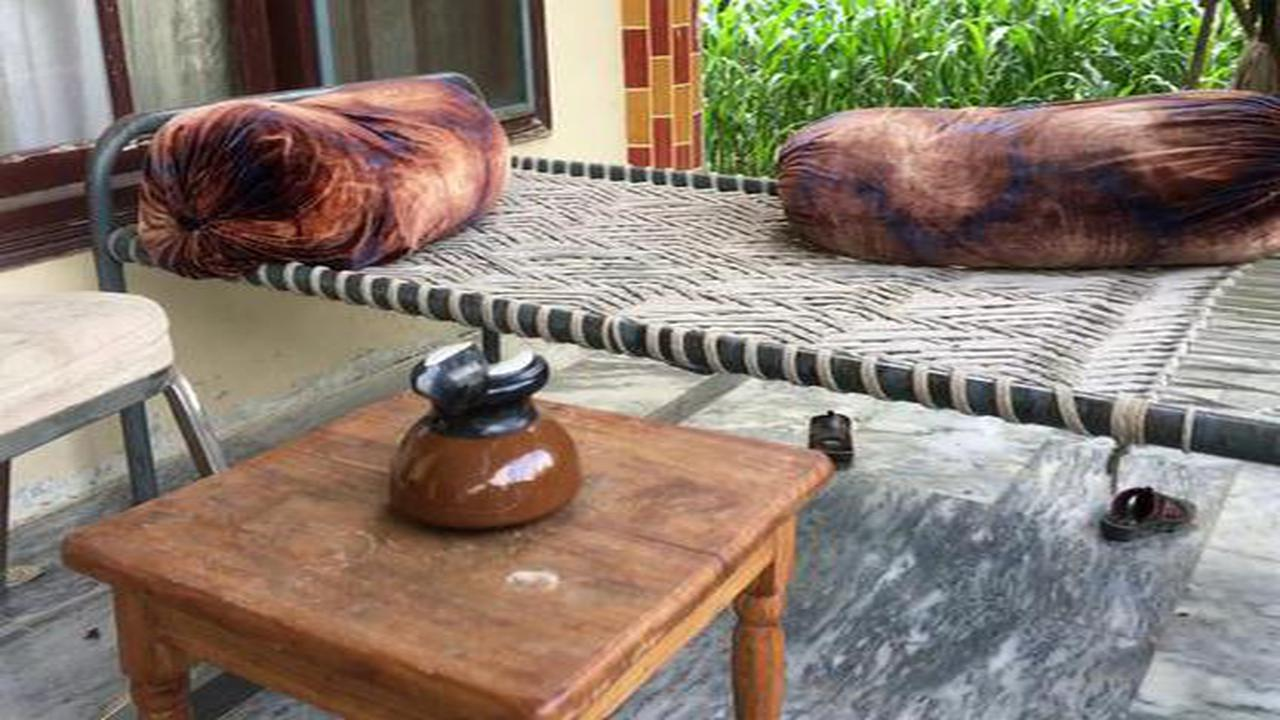insulator_pin: (354, 326, 610, 546)
